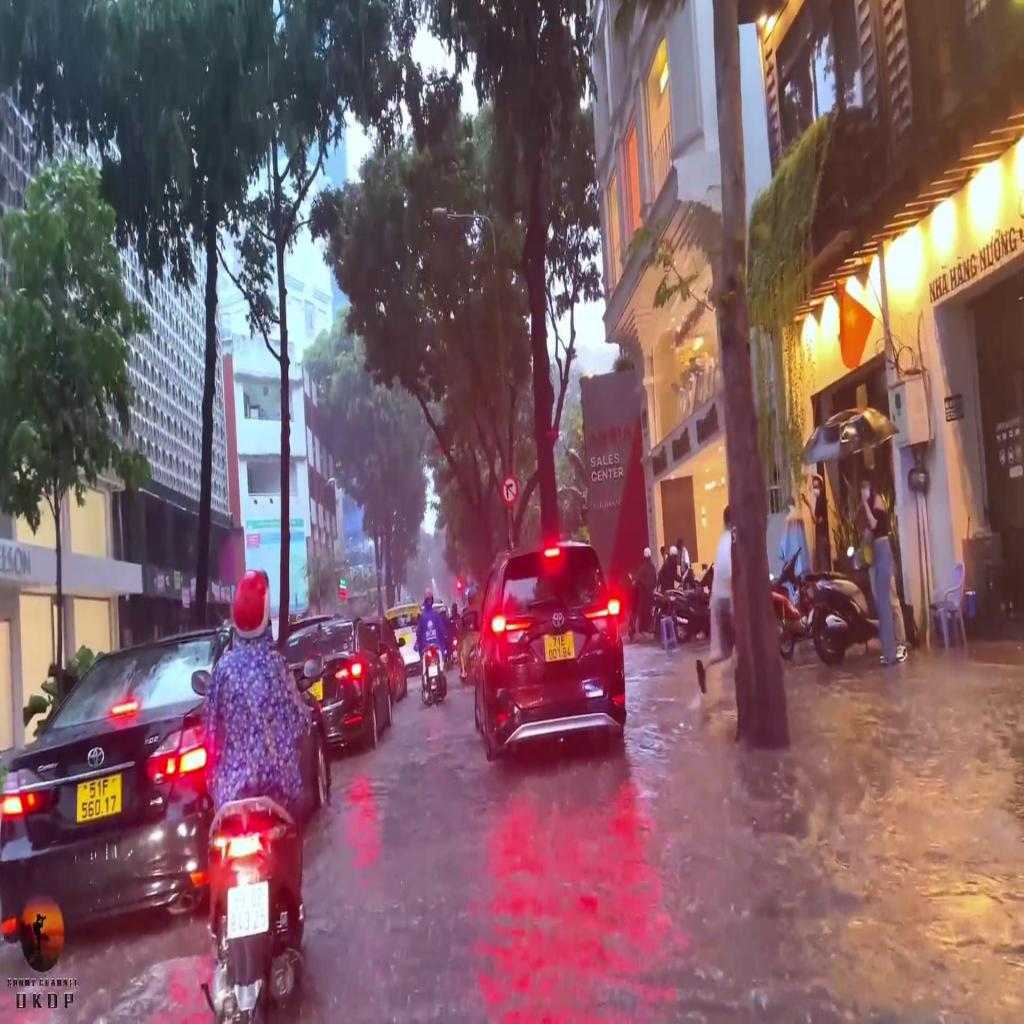cam_re_phai: (500, 469, 519, 510)
